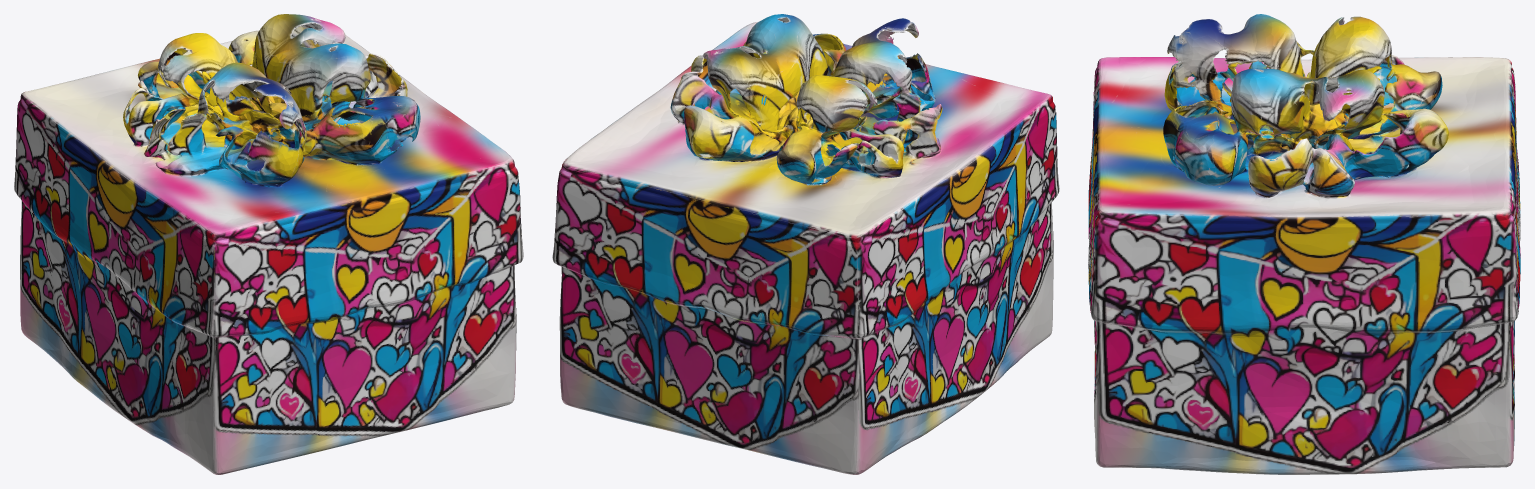
The model's file is kit_fan_box.glb.
3 views of the same model, side by side, from view 1: azimuth 30°, elevation 25°; view 2: azimuth 150°, elevation 25°; view 3: azimuth 270°, elevation 25° (orthographic). The views are drawn at different scales.
Visible parts, largest first — view 1: kit_fan_box; view 2: kit_fan_box; view 3: kit_fan_box.
Boxes of the visible parts, left/top/right/bottom form: kit_fan_box: left=14, top=14, right=523, bottom=474; kit_fan_box: left=552, top=14, right=1059, bottom=474; kit_fan_box: left=1088, top=14, right=1520, bottom=474.
Size of the model in its own units: 0.8197 by 0.8 by 0.9013.
Materials: 1 (1 with a texture image).
